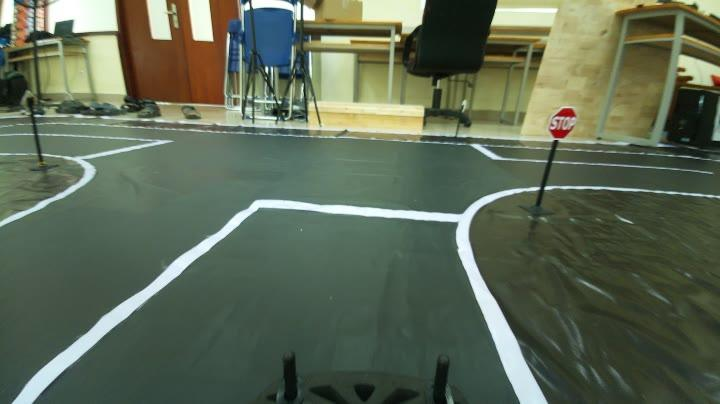stop: (540, 100, 586, 148)
